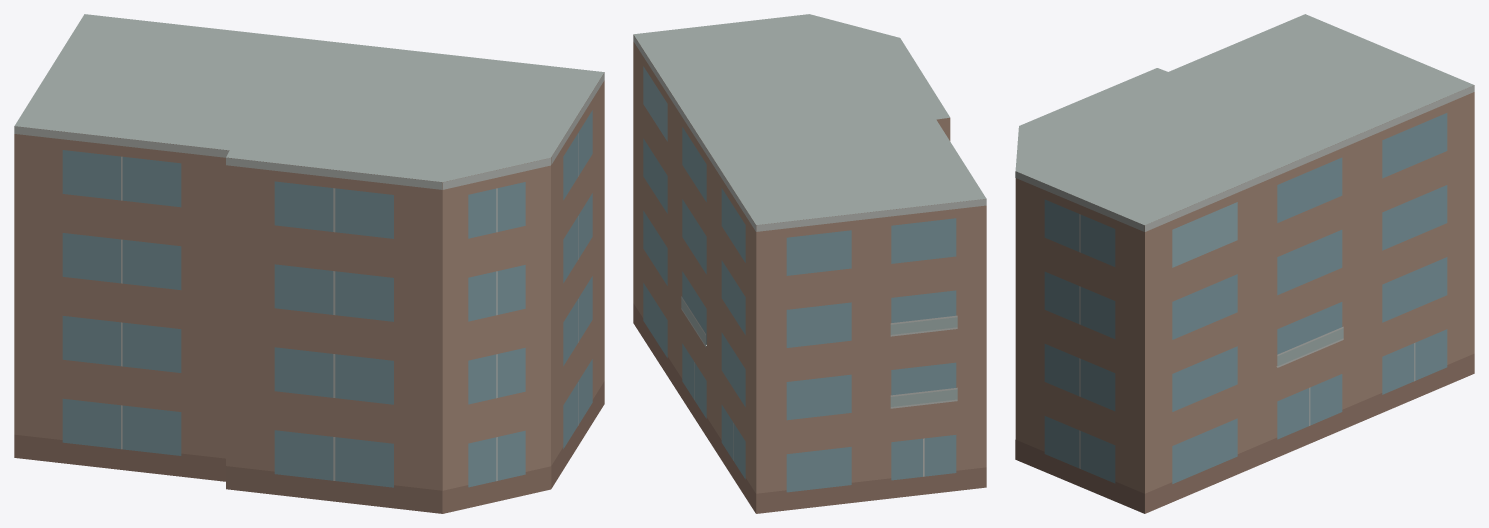
File: survey-upis-32843749.glb
3 renders of one model, left to right at view 1: azimuth 30°, elevation 25°; view 2: azimuth 150°, elevation 25°; view 3: azimuth 270°, elevation 25°, orthographic. The views are drawn at different scales.
Parts seen in each view (by area): view 1: survey-upis-32843749.tmp; view 2: survey-upis-32843749.tmp; view 3: survey-upis-32843749.tmp.
Boxes of the visible parts, x1=… form: survey-upis-32843749.tmp: x1=14, y1=14, x2=604, y2=513; survey-upis-32843749.tmp: x1=633, y1=14, x2=986, y2=513; survey-upis-32843749.tmp: x1=1015, y1=14, x2=1474, y2=513.
Size of the model in its own units: 16.35 by 10.4 by 15.
